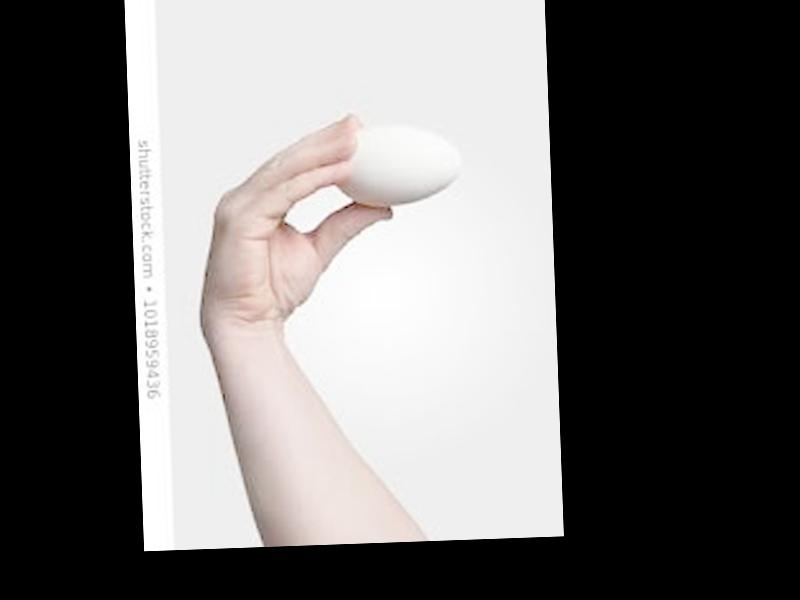Eggs: (332, 119, 465, 208)
